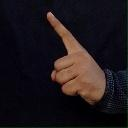I: (46, 11, 100, 100)
